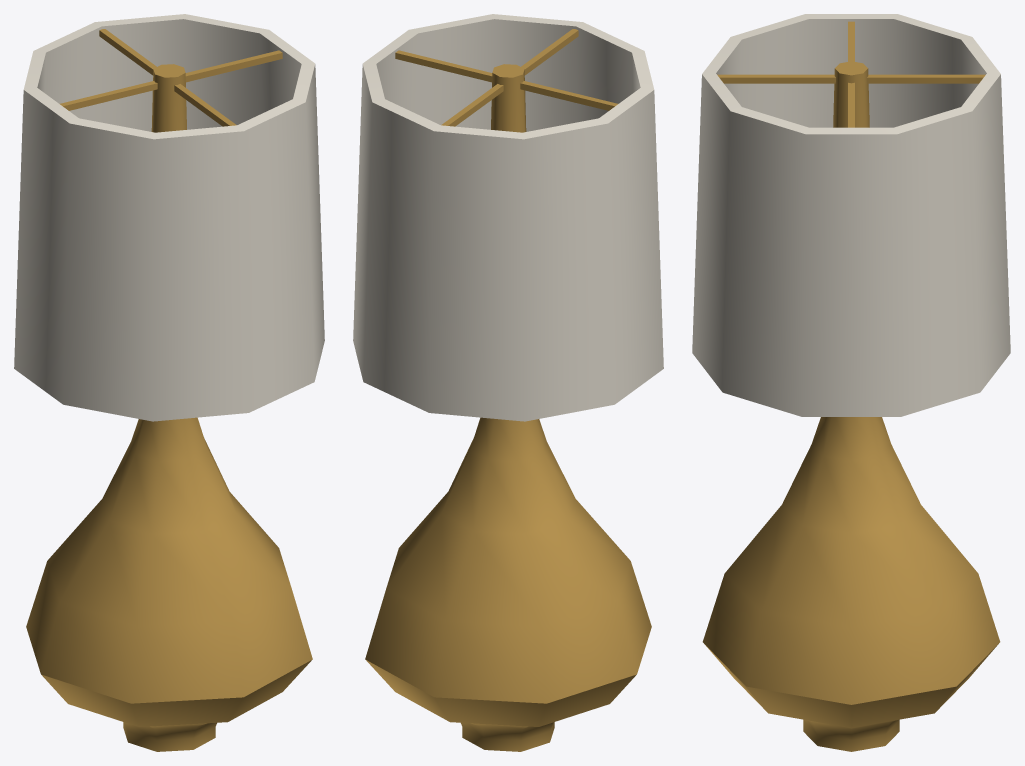
Rendered from pk_lamp_brass.glb.
The picture shows the model from 3 angles, left to right: view 1: azimuth 30°, elevation 25°; view 2: azimuth 150°, elevation 25°; view 3: azimuth 270°, elevation 25°; orthographic projection.
Visible parts, largest first — view 1: pk_lamp_brass; view 2: pk_lamp_brass; view 3: pk_lamp_brass.
Boxes of the visible parts, x1,y1,x2,y2 form: pk_lamp_brass: [14, 14, 324, 751]; pk_lamp_brass: [353, 14, 663, 751]; pk_lamp_brass: [692, 14, 1010, 751].
Size of the model in its own units: 0.2898 by 0.7 by 0.3047.
Materials: 1 (1 with a texture image).
